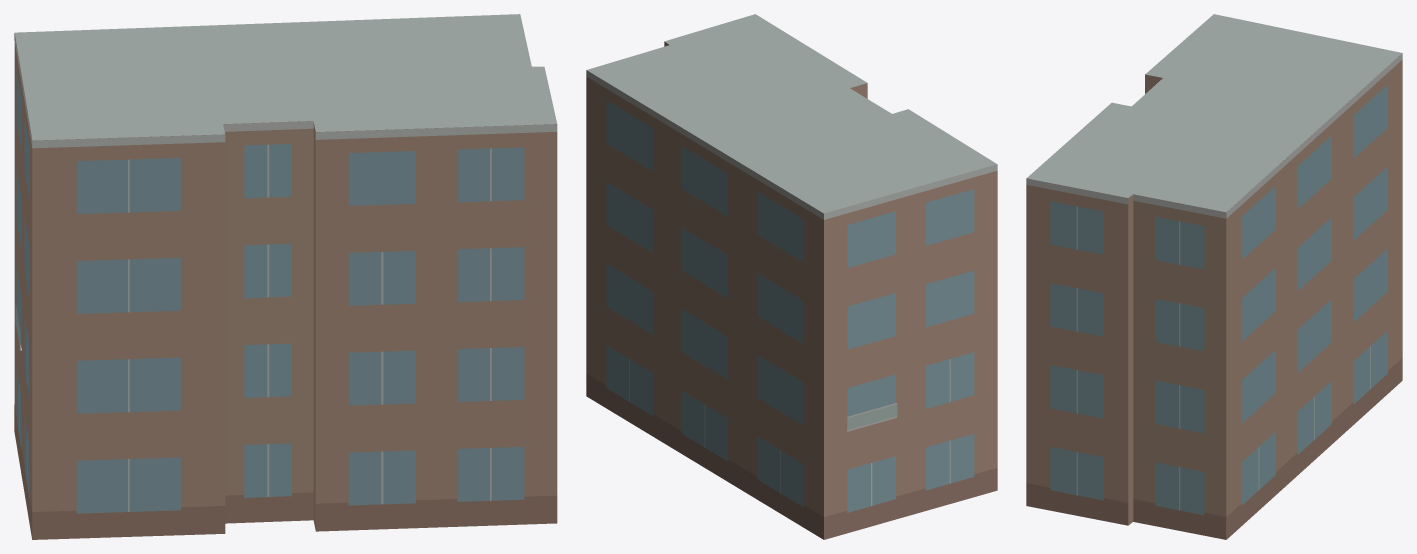
The model's file is survey-upis-32632097.glb.
3 views of the same model, side by side, from view 1: azimuth 30°, elevation 25°; view 2: azimuth 150°, elevation 25°; view 3: azimuth 270°, elevation 25° (orthographic). The views are drawn at different scales.
Visible parts, largest first — view 1: survey-upis-32632097.tmp; view 2: survey-upis-32632097.tmp; view 3: survey-upis-32632097.tmp.
Part boxes in pixels (x1,y1,x2,y2): survey-upis-32632097.tmp: (14,14,557,539); survey-upis-32632097.tmp: (586,14,997,539); survey-upis-32632097.tmp: (1026,14,1402,539).
Bounding box in the file's own units: 16.24 × 12.5 × 13.02.
